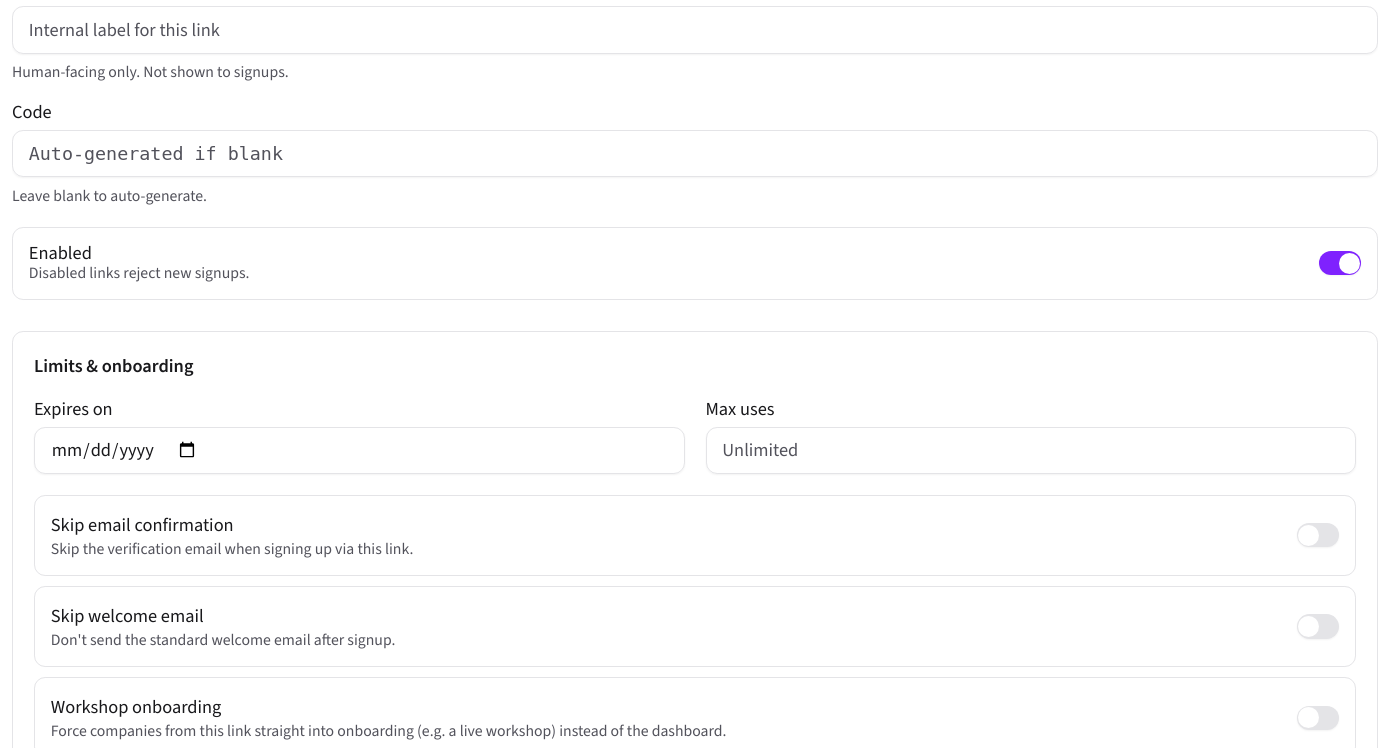
Scenario: SignupLinkForm — create › submit is disabled until title has content
Type "My link" into the field labelled "Title *" at (695, 30), box x1=12 y1=6 x2=1378 y2=54
(page scrolled)
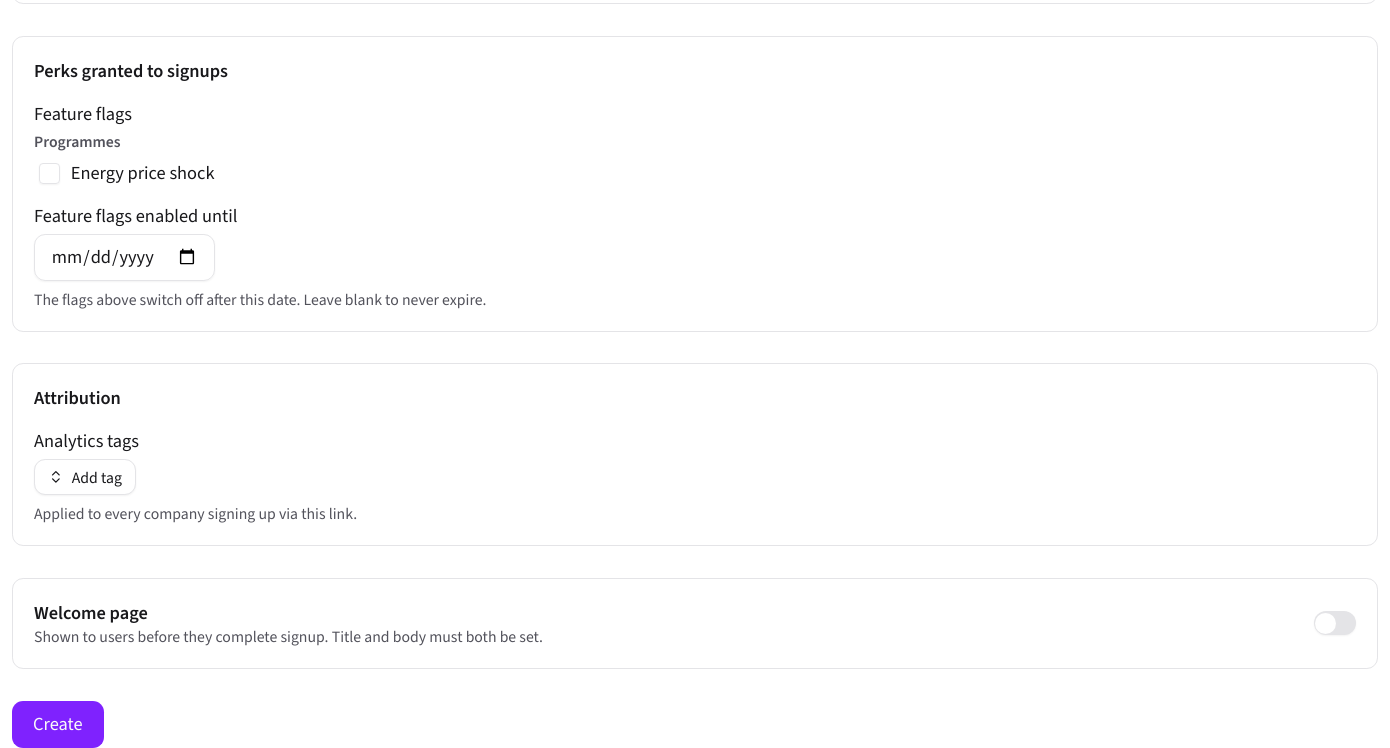
Expected: the button "Create" is enabled, x1=12 y1=700 x2=104 y2=747
